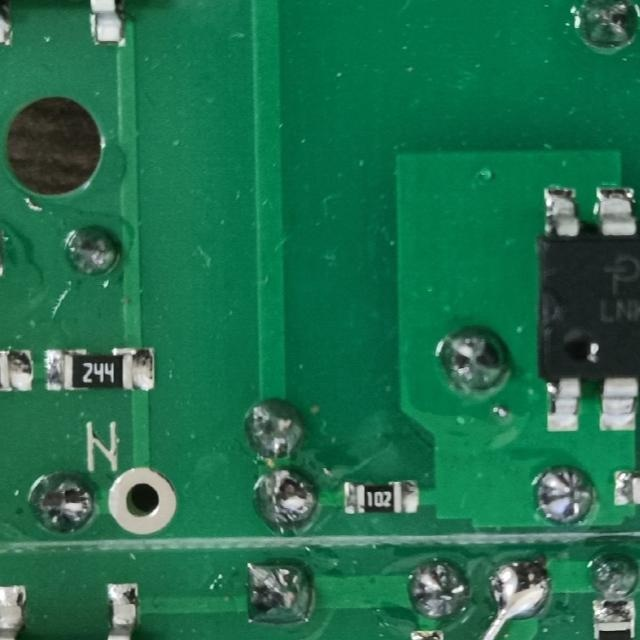chip-resistor: (44, 344, 160, 393), (341, 477, 422, 516)
